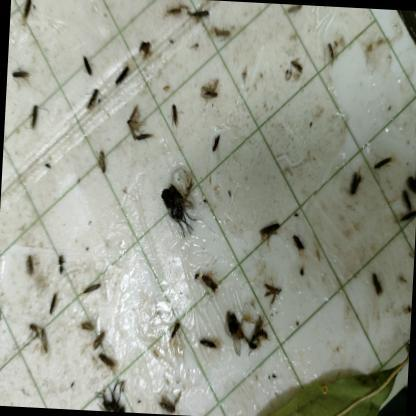prays_oleae: (212, 300, 252, 359), (249, 306, 274, 362), (260, 212, 284, 253), (121, 104, 142, 145), (346, 156, 364, 203), (372, 145, 396, 178), (37, 322, 53, 371), (86, 323, 108, 357), (184, 3, 212, 29), (369, 268, 389, 304), (262, 276, 283, 310), (6, 61, 34, 86), (166, 98, 184, 136), (198, 268, 220, 299), (160, 319, 184, 347), (198, 78, 220, 108), (96, 350, 122, 375), (77, 51, 98, 81), (197, 330, 219, 355), (80, 278, 110, 296), (28, 102, 43, 136), (134, 126, 156, 149), (44, 291, 64, 316), (92, 149, 112, 174), (110, 64, 134, 84), (290, 228, 309, 252), (207, 128, 224, 153), (21, 252, 36, 280), (161, 392, 179, 414), (396, 209, 416, 228), (323, 44, 336, 73), (79, 310, 95, 332), (17, 0, 36, 18), (288, 56, 304, 77), (399, 187, 414, 208), (0, 297, 5, 325)
